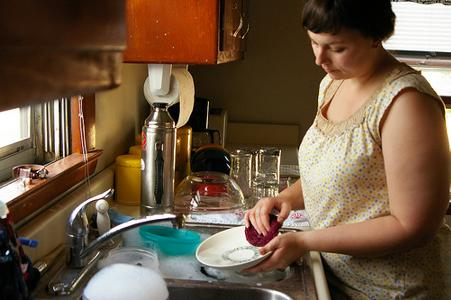person: (245, 2, 450, 300)
